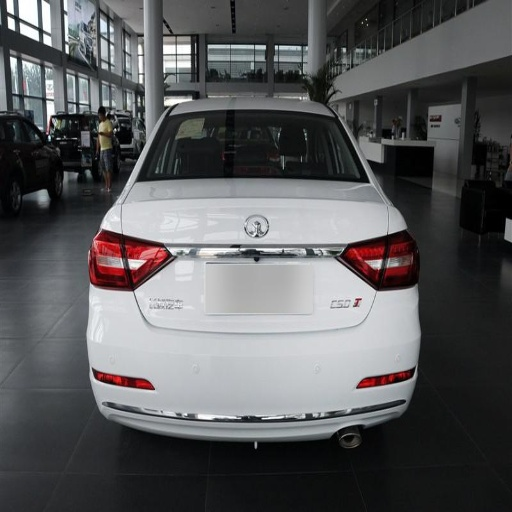back_bumper: (90, 285, 413, 448)
tailgate: (142, 179, 387, 330)
